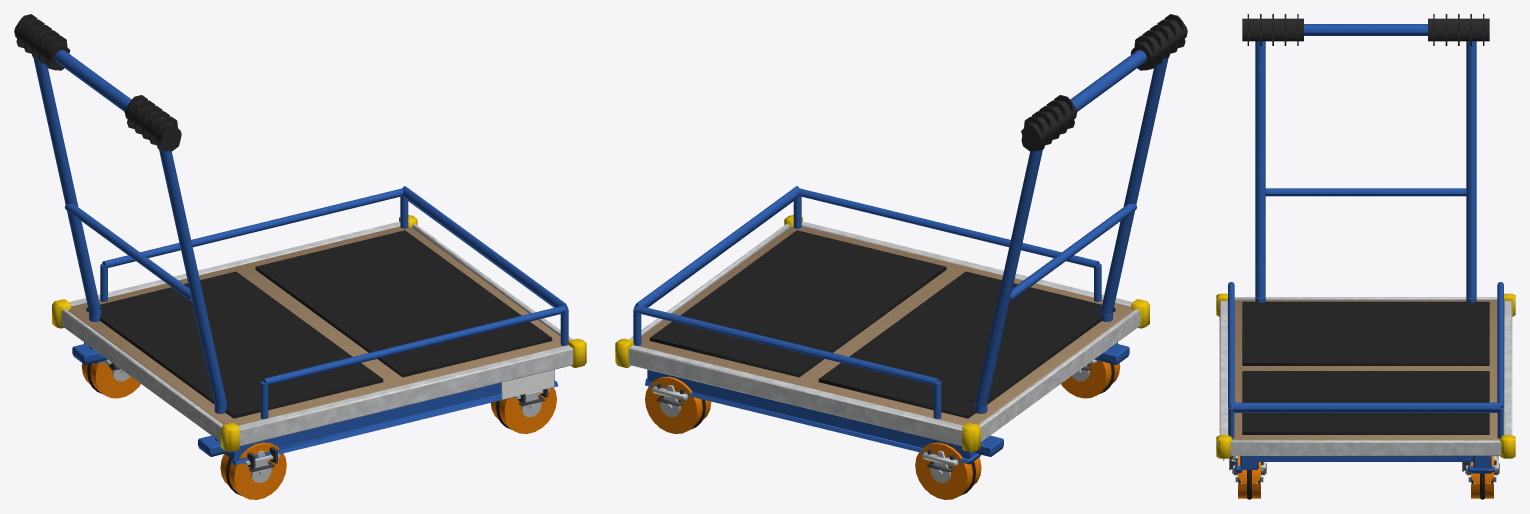
File: empresa_brasil_carrinho.glb
3 views of the same model, side by side, from view 1: azimuth 30°, elevation 25°; view 2: azimuth 150°, elevation 25°; view 3: azimuth 270°, elevation 25° (orthographic). The views are drawn at different scales.
Parts seen in each view (by area): view 1: EB_Carrinho; view 2: EB_Carrinho; view 3: EB_Carrinho.
Part boxes in pixels (x1,y1,x2,y2): EB_Carrinho: (14, 14, 586, 499); EB_Carrinho: (615, 14, 1187, 499); EB_Carrinho: (1216, 14, 1515, 499).
Bounding box in the file's own units: 1.1 × 1.02 × 0.823.
1 material, 1 textured.
